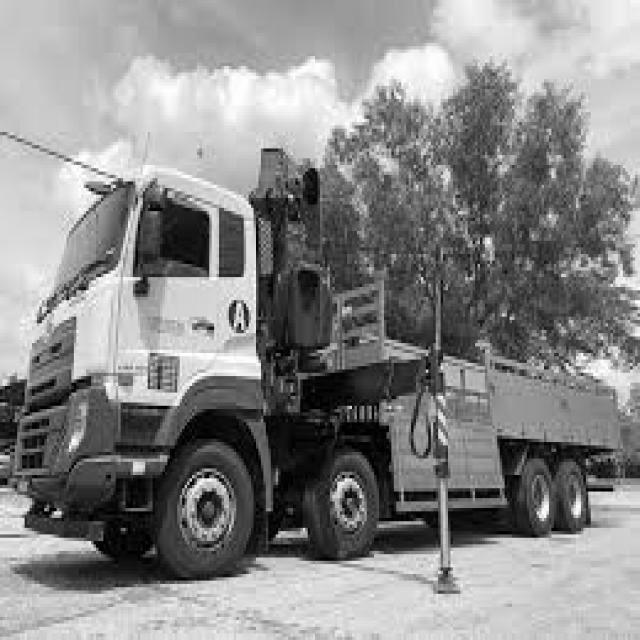Box Truck: (11, 147, 624, 581)
